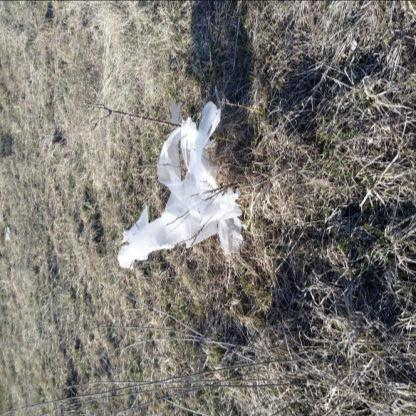Plastic bag - wrapper: (118, 84, 244, 270)
Unlabeled litter: (5, 227, 10, 241)
